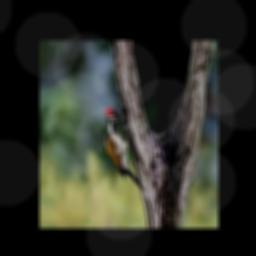Woodpecker: (105, 108, 143, 189)
